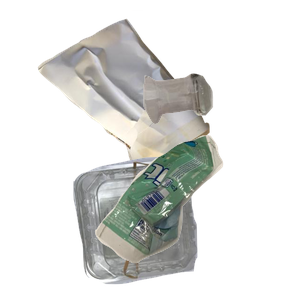glass: (141, 71, 300, 187)
paper: (35, 10, 237, 178)
plastic: (71, 154, 300, 300)
trash: (92, 133, 300, 300)
